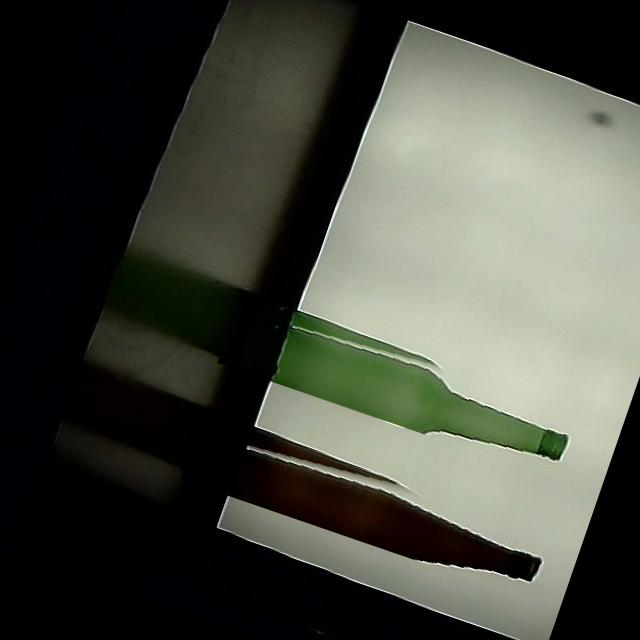Glass: (178, 404, 558, 600), (215, 289, 581, 480)
